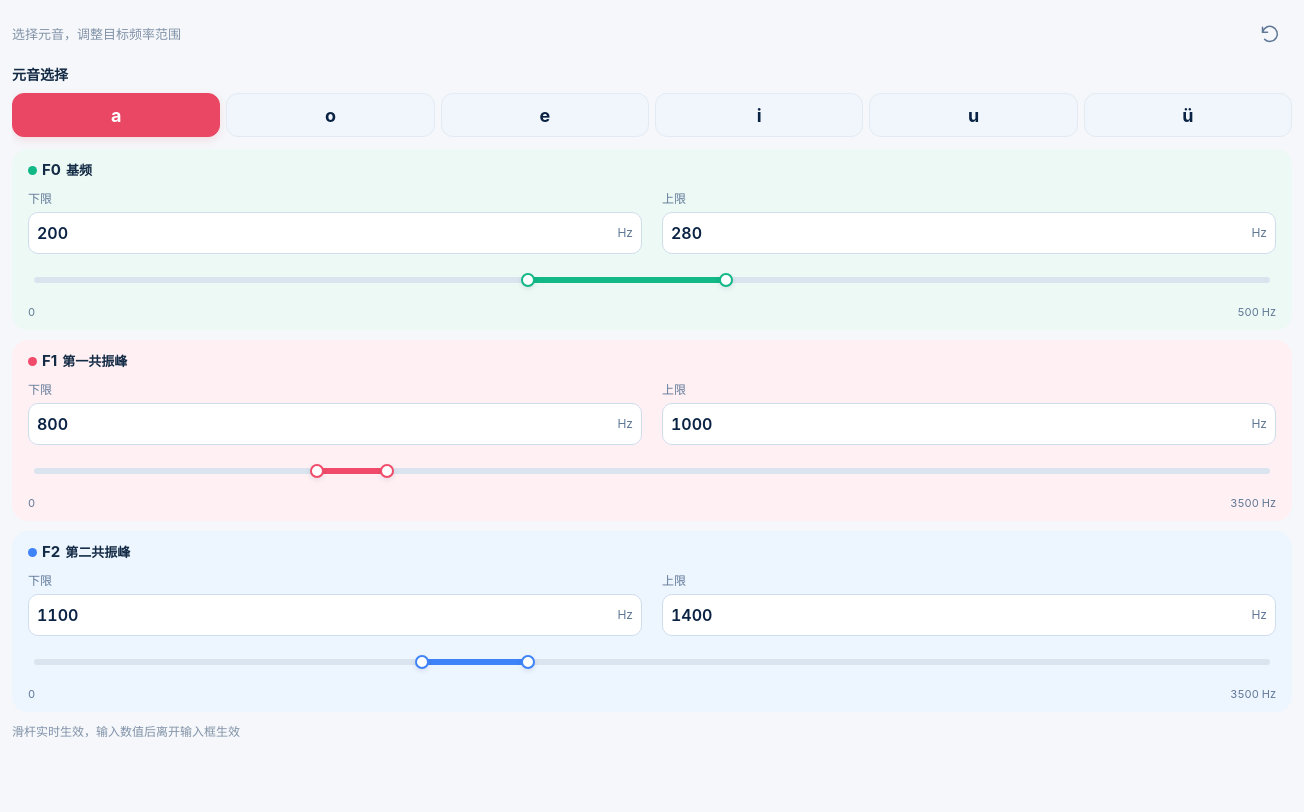
Test: TrainingGoalCard › clamps F2 lower to F1 upper and explains the correction
Step 1. Replace the text in the number field named "F2下限" with "800" → (325, 614), box 37,594 -> 614,634
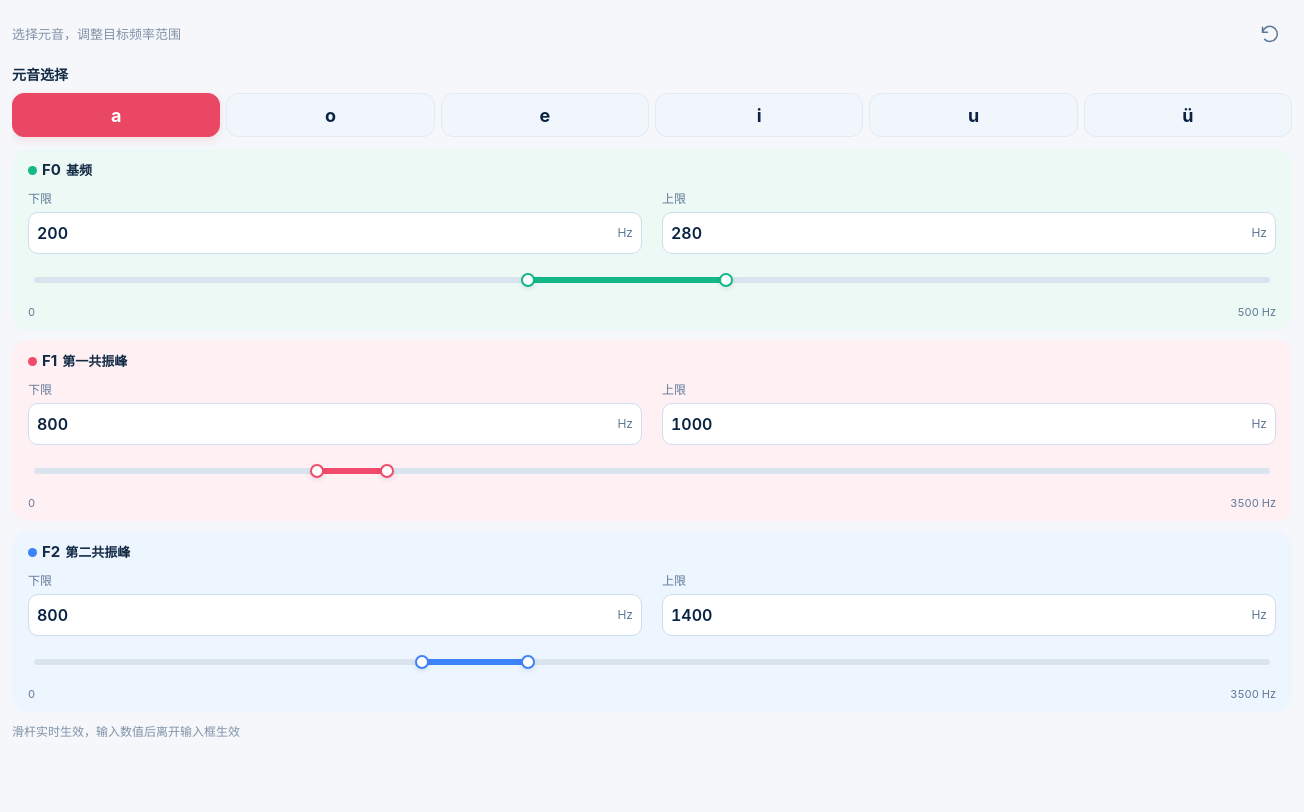
Step 2. Leave the number field named "F2下限", box 37,594 -> 614,634
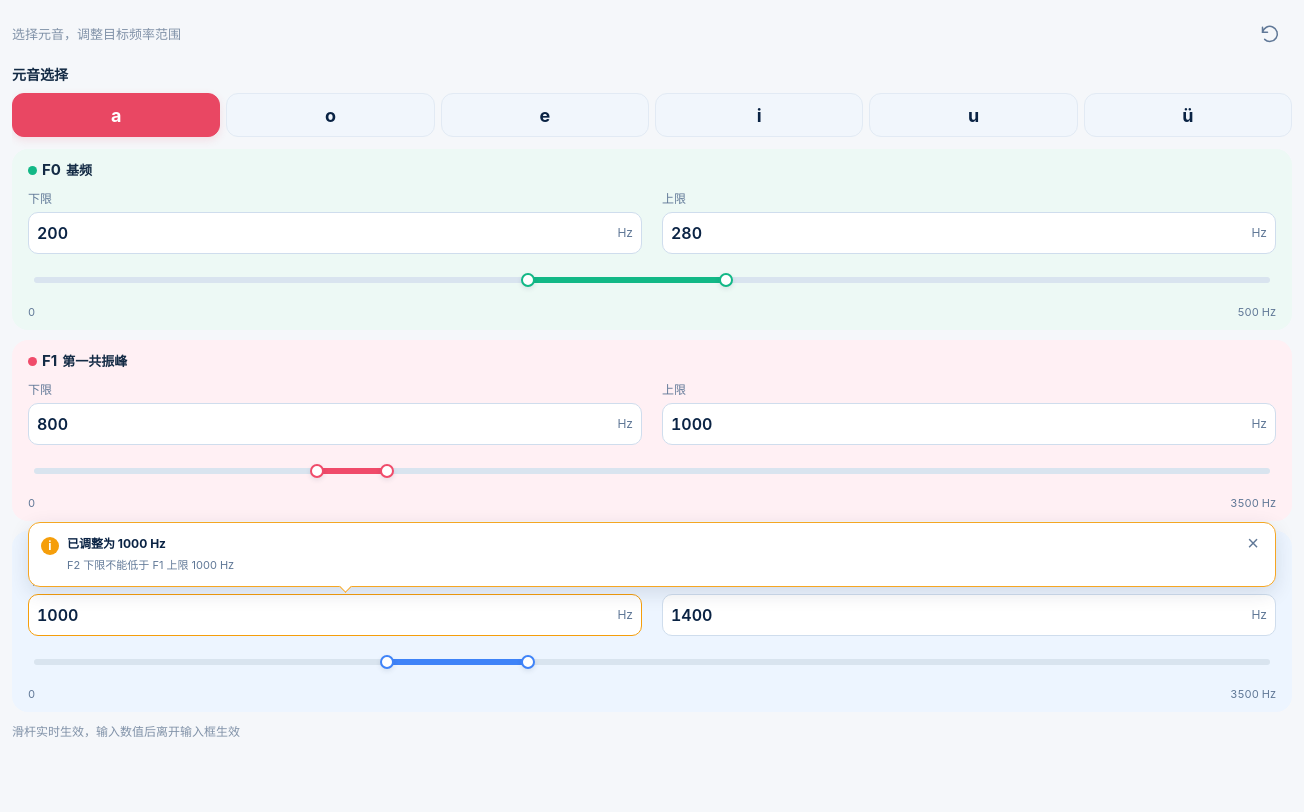
Check: the message shows "F2 下限不能低于 F1 上限", box 67,558 -> 234,572
